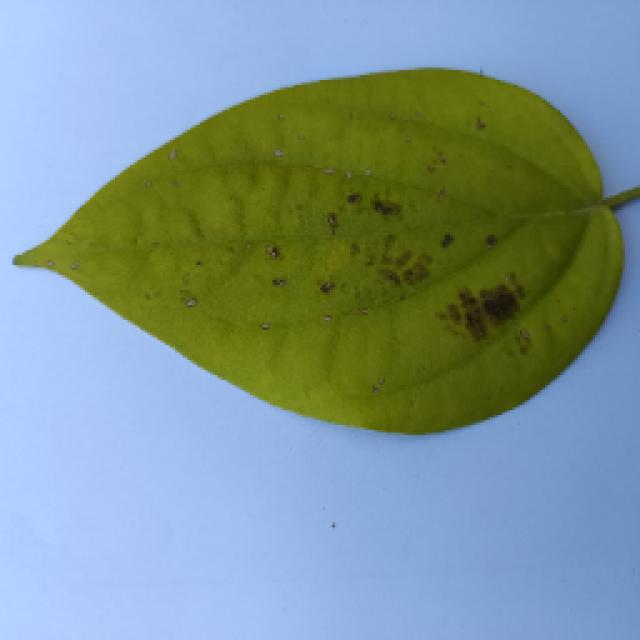slow-decline: (2, 55, 630, 480)
